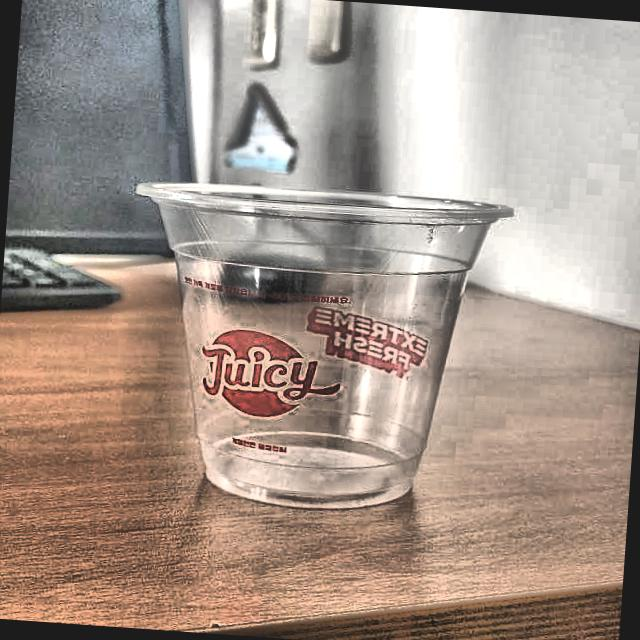plastic cup: (113, 173, 520, 520)
